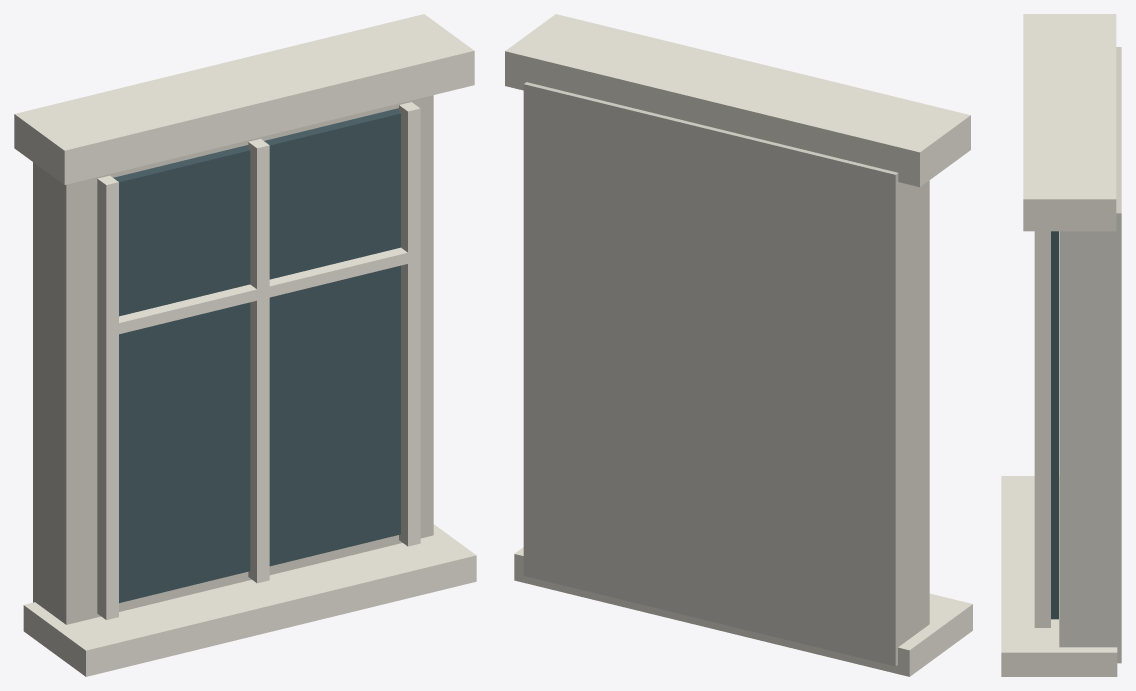
The model's file is villa-bay.glb.
3 views of the same model, side by side, from view 1: azimuth 30°, elevation 25°; view 2: azimuth 150°, elevation 25°; view 3: azimuth 270°, elevation 25° (orthographic). The views are drawn at different scales.
Visible parts, largest first — view 1: villa-bay-glass, villa-bay-marble, villa-bay-stone; view 2: villa-bay-stone, villa-bay-marble; view 3: villa-bay-marble, villa-bay-stone, villa-bay-glass.
Boxes of the visible parts, x1=… form: villa-bay-glass: x1=113, y1=108, x2=400, y2=602; villa-bay-marble: x1=14, y1=14, x2=476, y2=676; villa-bay-stone: x1=33, y1=95, x2=433, y2=624; villa-bay-stone: x1=523, y1=82, x2=929, y2=666; villa-bay-marble: x1=505, y1=14, x2=972, y2=676; villa-bay-marble: x1=1001, y1=14, x2=1117, y2=676; villa-bay-stone: x1=1059, y1=47, x2=1121, y2=663; villa-bay-glass: x1=1051, y1=231, x2=1058, y2=619.
Bounding box in the file's own units: 2.12 × 2.57 × 0.58.
